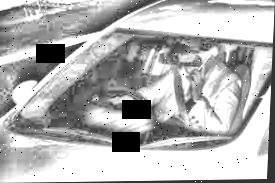seatbelt: (167, 65, 198, 130)
